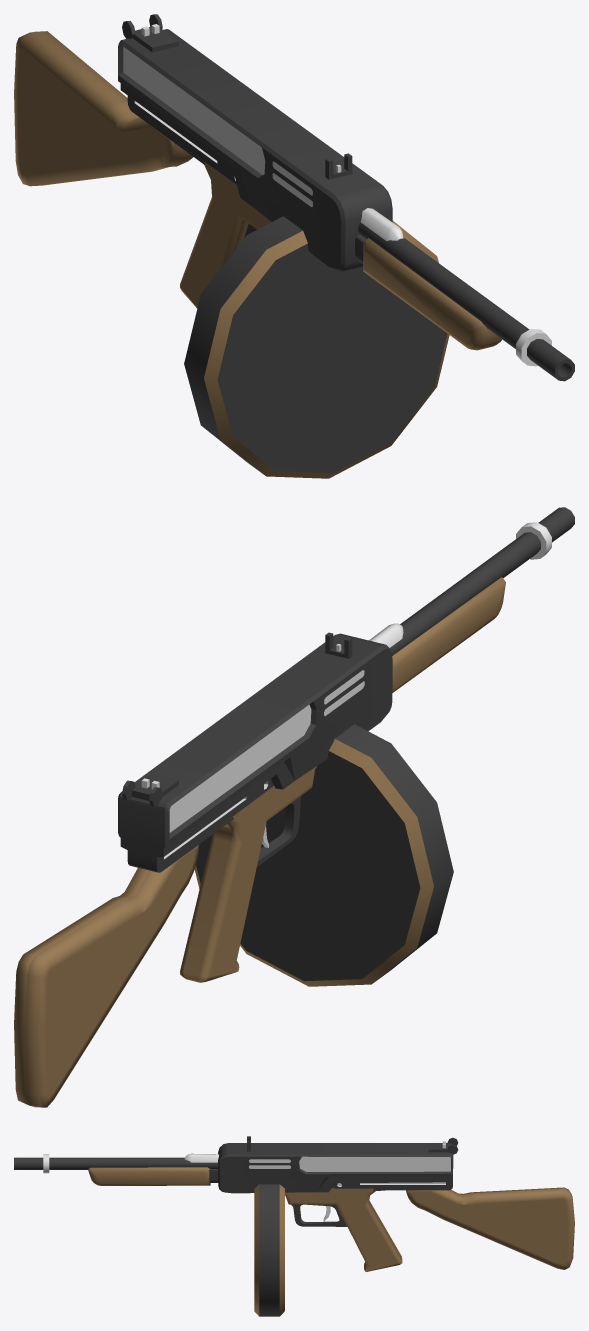
Rendered from Weapon_11.fbx.
3 views of the same model, one above another, from view 1: azimuth 30°, elevation 25°; view 2: azimuth 150°, elevation 25°; view 3: azimuth 270°, elevation 25° (orthographic). The views are drawn at different scales.
Visible parts, largest first — view 1: Weapon_11; view 2: Weapon_11; view 3: Weapon_11.
Part boxes in pixels (x1=…): Weapon_11: x1=14, y1=14, x2=574, y2=478; Weapon_11: x1=14, y1=507, x2=574, y2=1107; Weapon_11: x1=14, y1=1136, x2=574, y2=1316.
Bounding box in the file's own units: 41.47 × 52.05 × 155.
